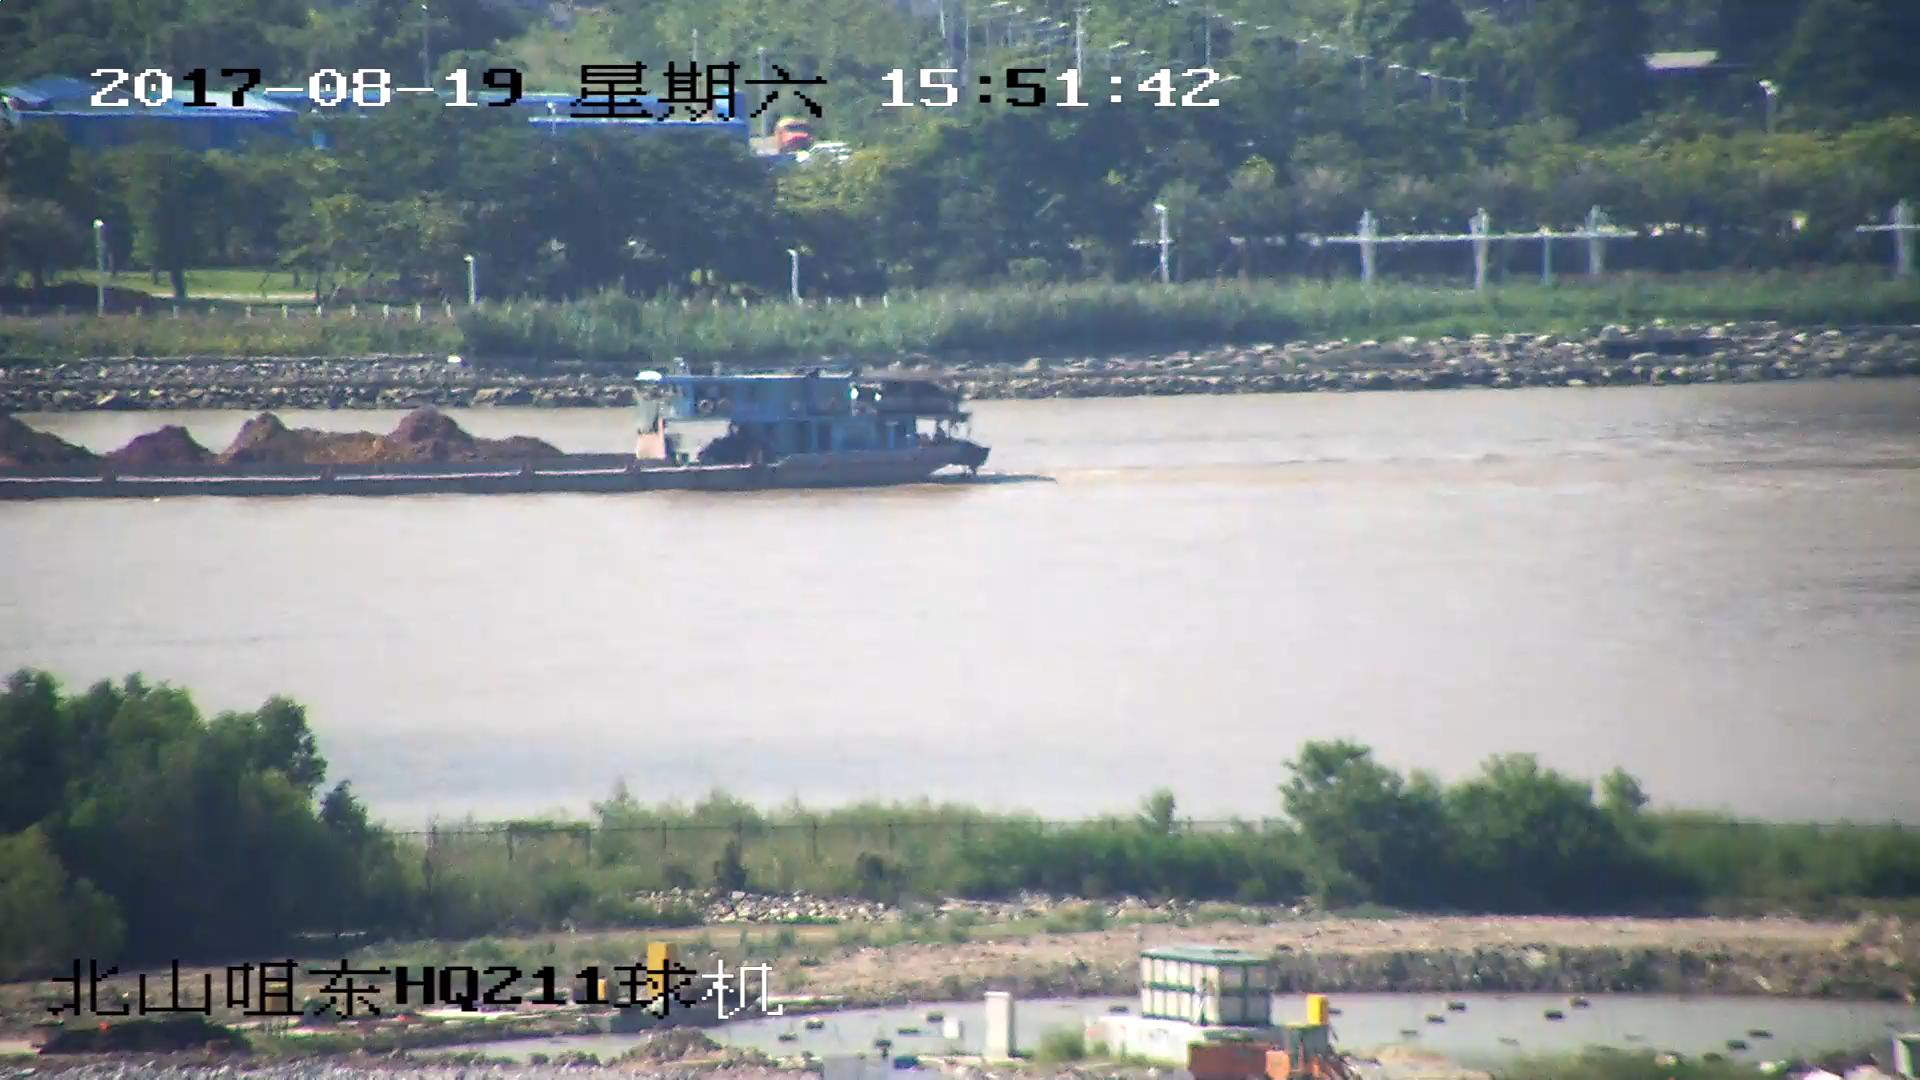ore carrier: (1, 362, 994, 498)
